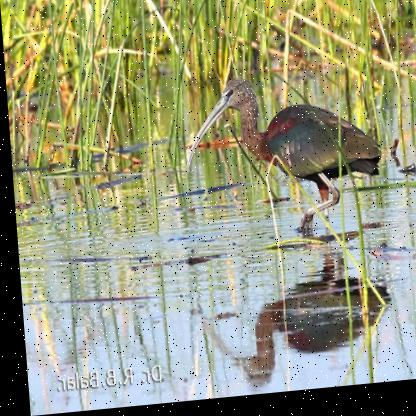Burung: (177, 75, 388, 263)
